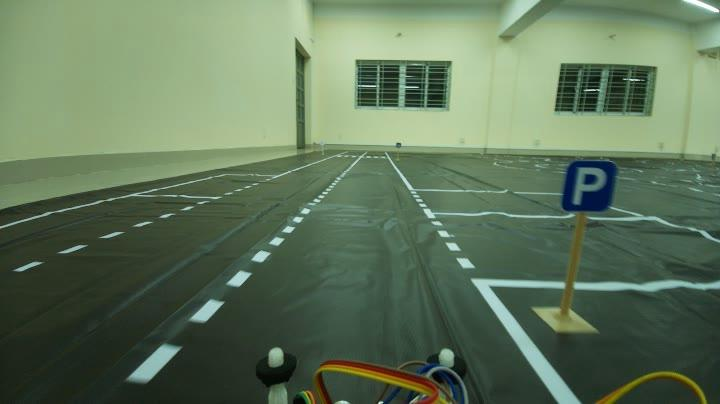parking: (560, 152, 618, 218)
